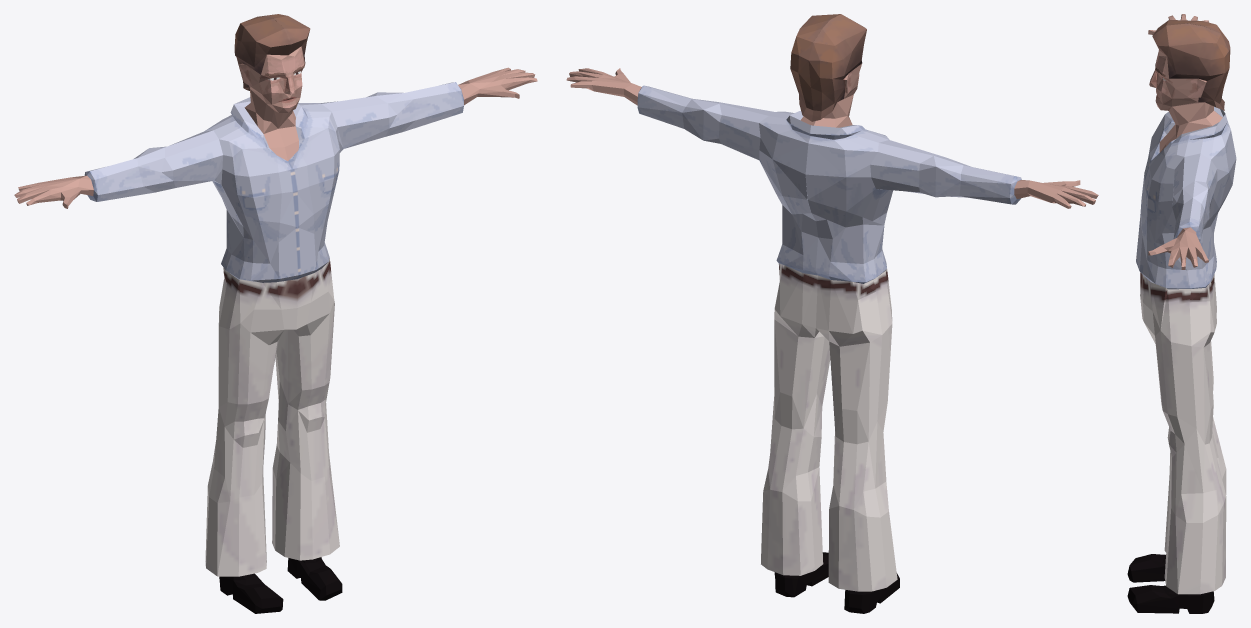
Rendered from Enthony.fbx.
The picture shows the model from 3 angles, left to right: view 1: azimuth 30°, elevation 25°; view 2: azimuth 150°, elevation 25°; view 3: azimuth 270°, elevation 25°; orthographic projection.
Visible parts, largest first — view 1: Cube; view 2: Cube; view 3: Cube.
Part boxes in pixels (left/top/right/bottom): Cube: left=14, top=14, right=537, bottom=613; Cube: left=566, top=14, right=1098, bottom=613; Cube: left=1127, top=14, right=1236, bottom=613.
Bounding box in the file's own units: 229 × 1255 × 1314.
